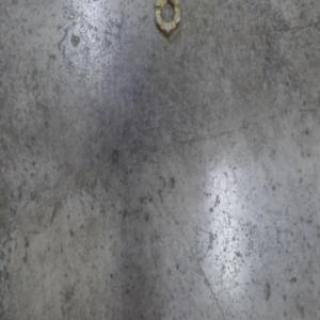Nuttrack_idkeyframe: (152, 0, 182, 41)
